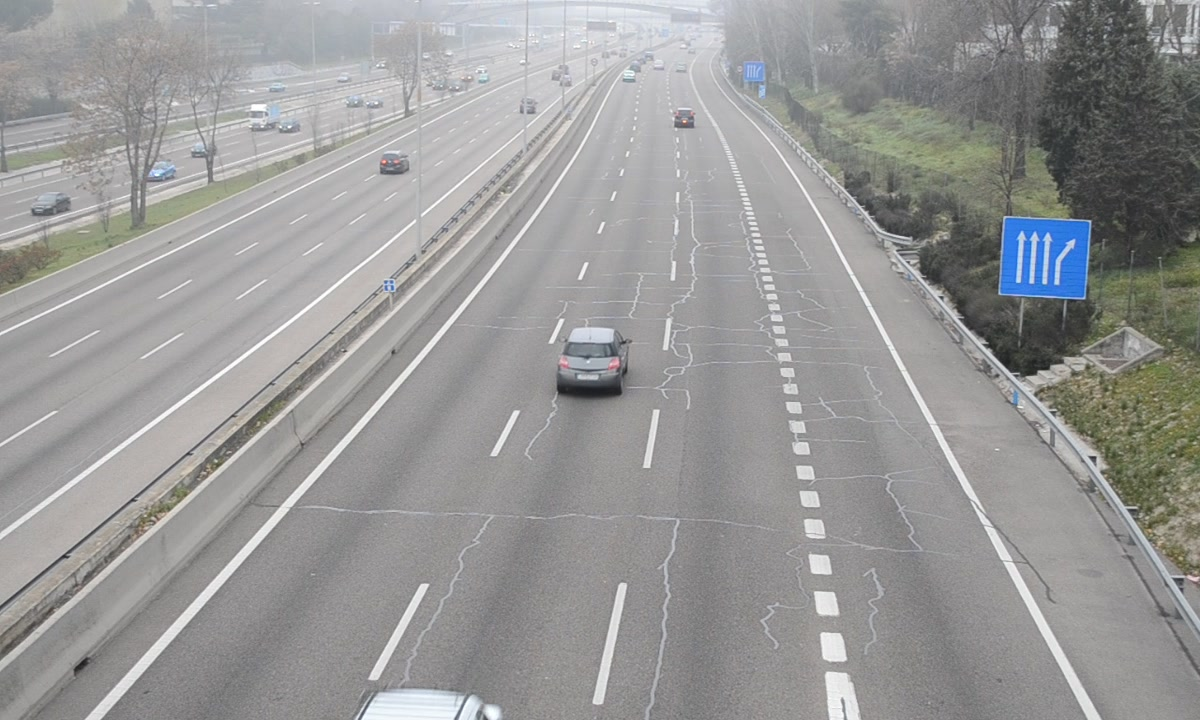car: (559, 328, 625, 390), (675, 108, 695, 129)
